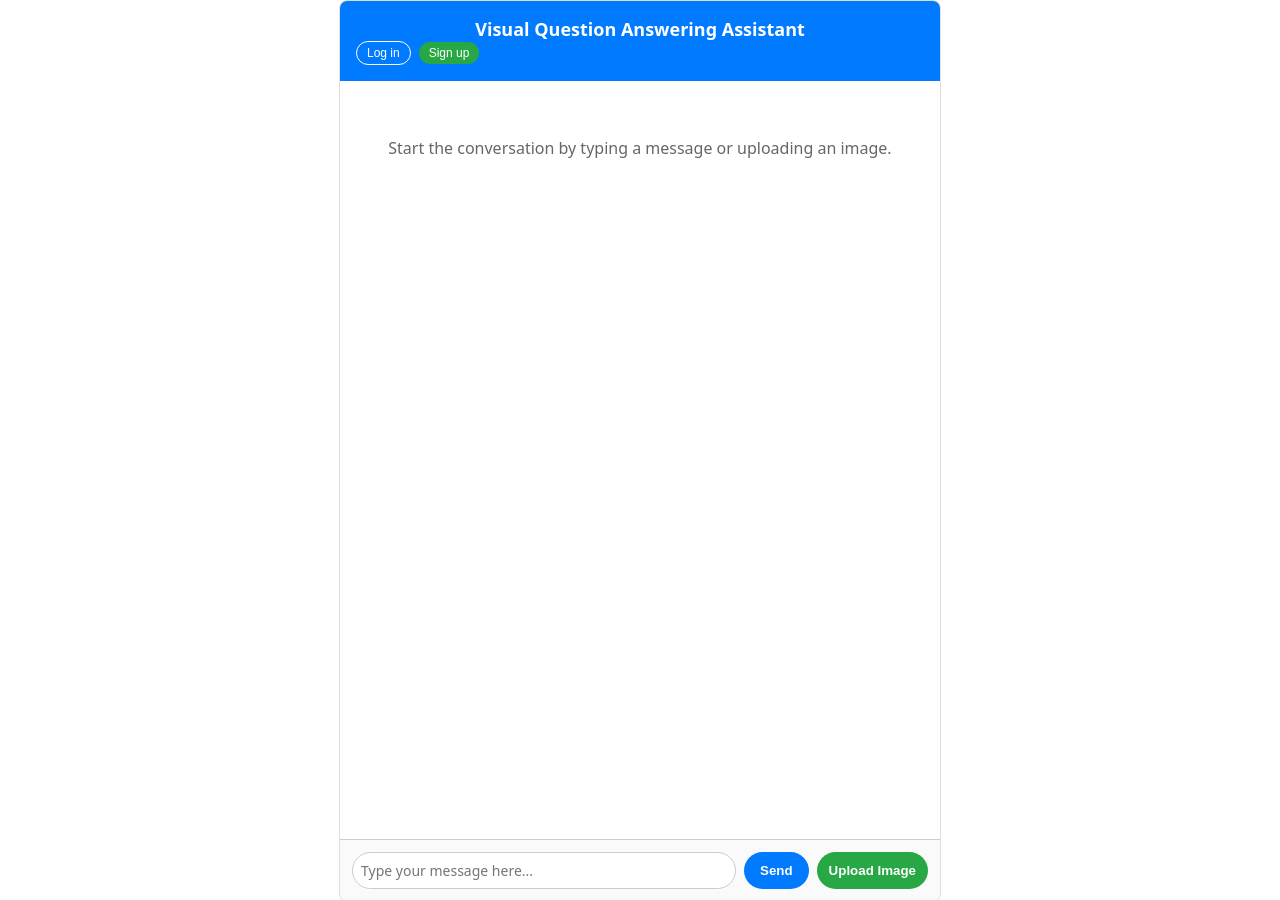
Test case: User Authentication › renders user info and logout button when authenticated
# Start with login → simulates real user flow
Click the button with test id "header-login" at (383, 53), box [356,41,411,65]
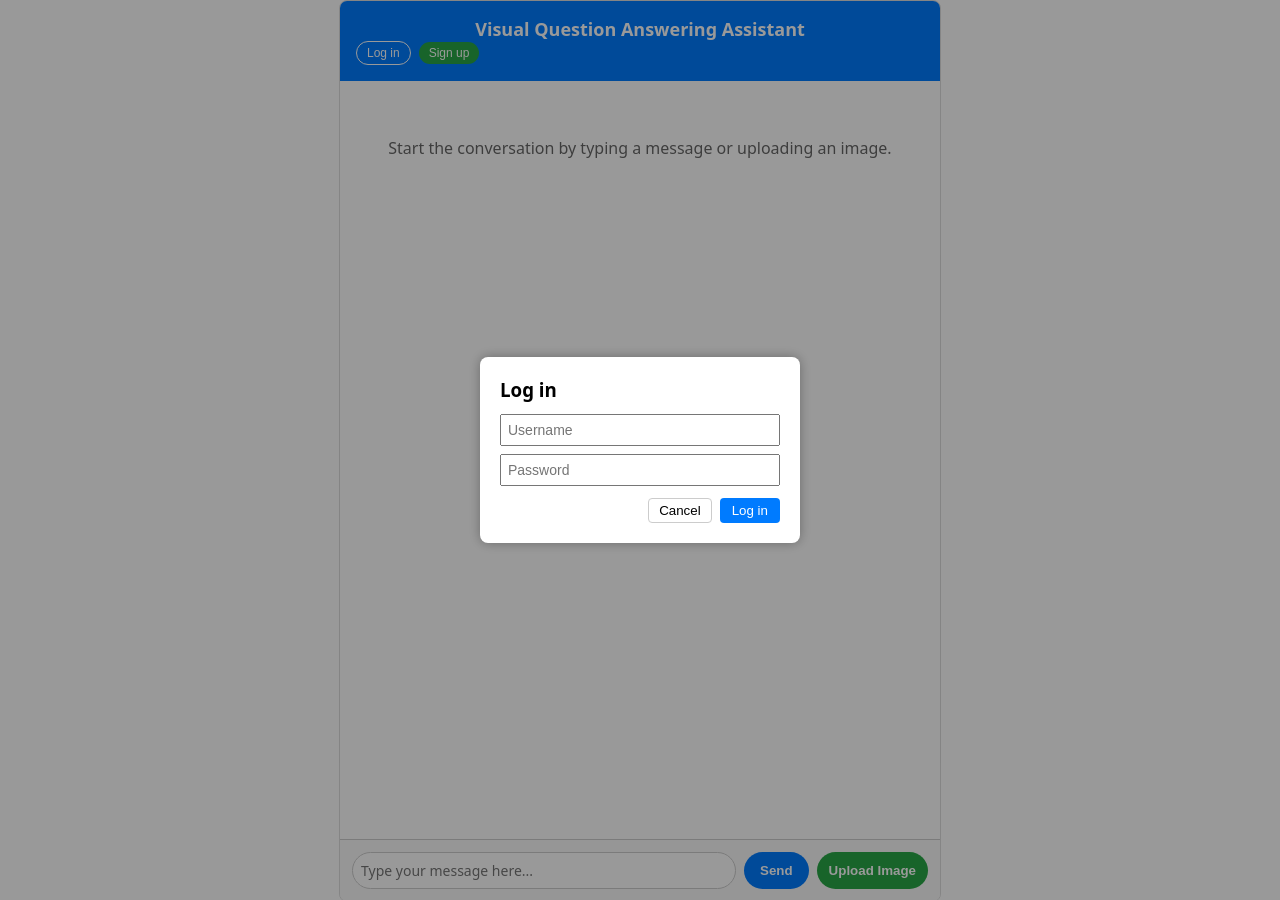
Type "testuser" into the field with placeholder "Username" at (640, 430), box [500,414,780,446]
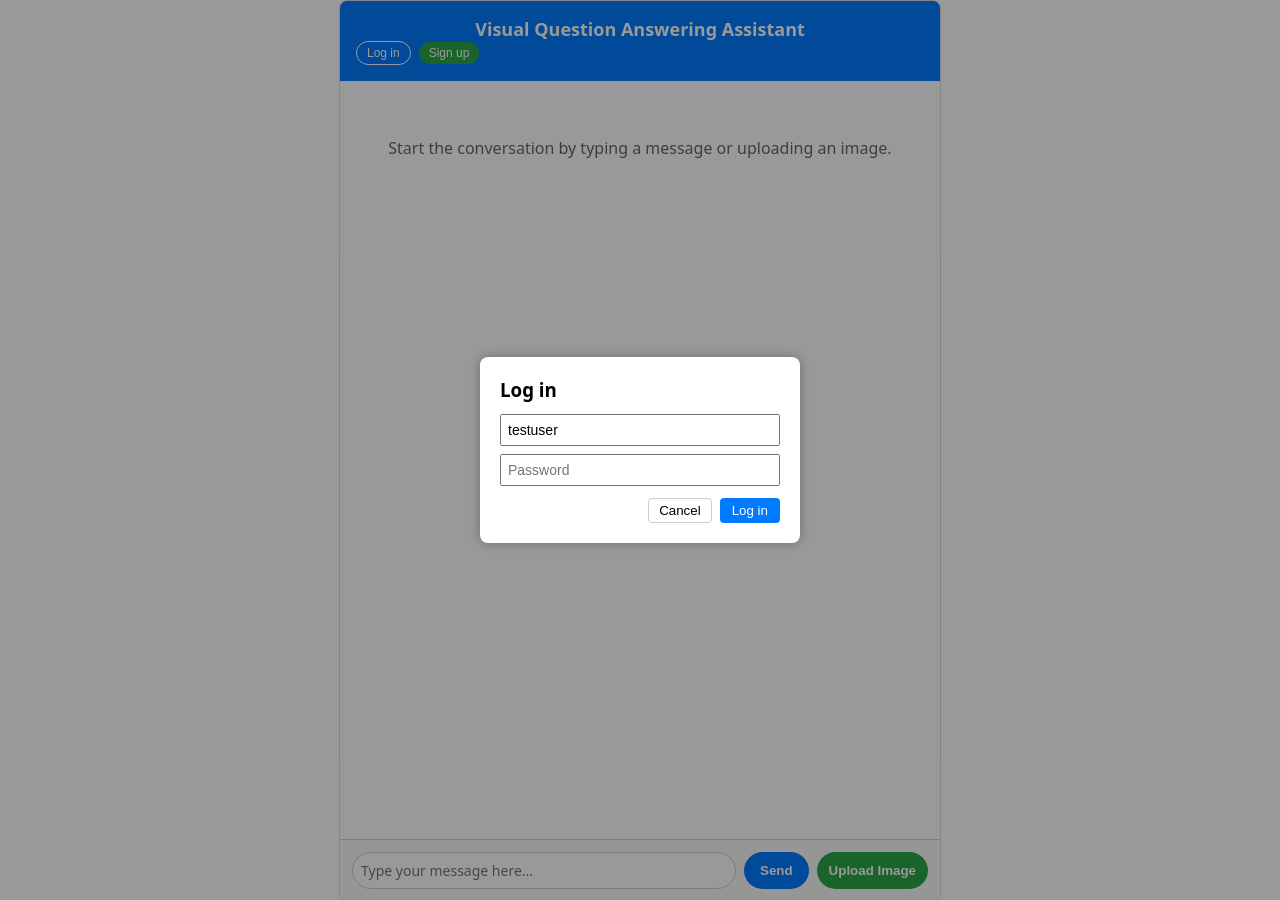
Type "password123" into the password field with placeholder "Password" at (640, 470), box [500,454,780,486]
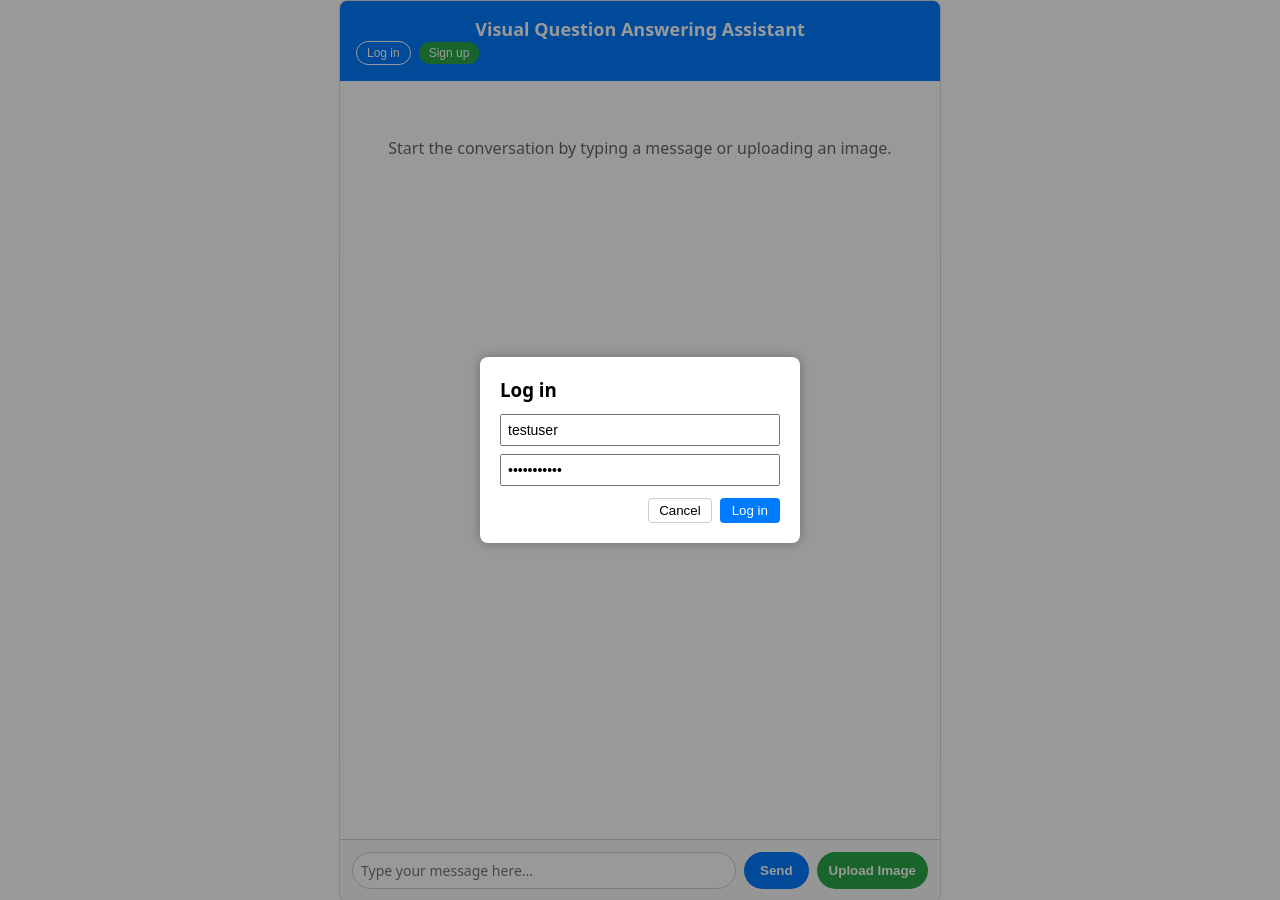
Click the button with test id "modal-submit" at (750, 510), box [720,498,780,523]
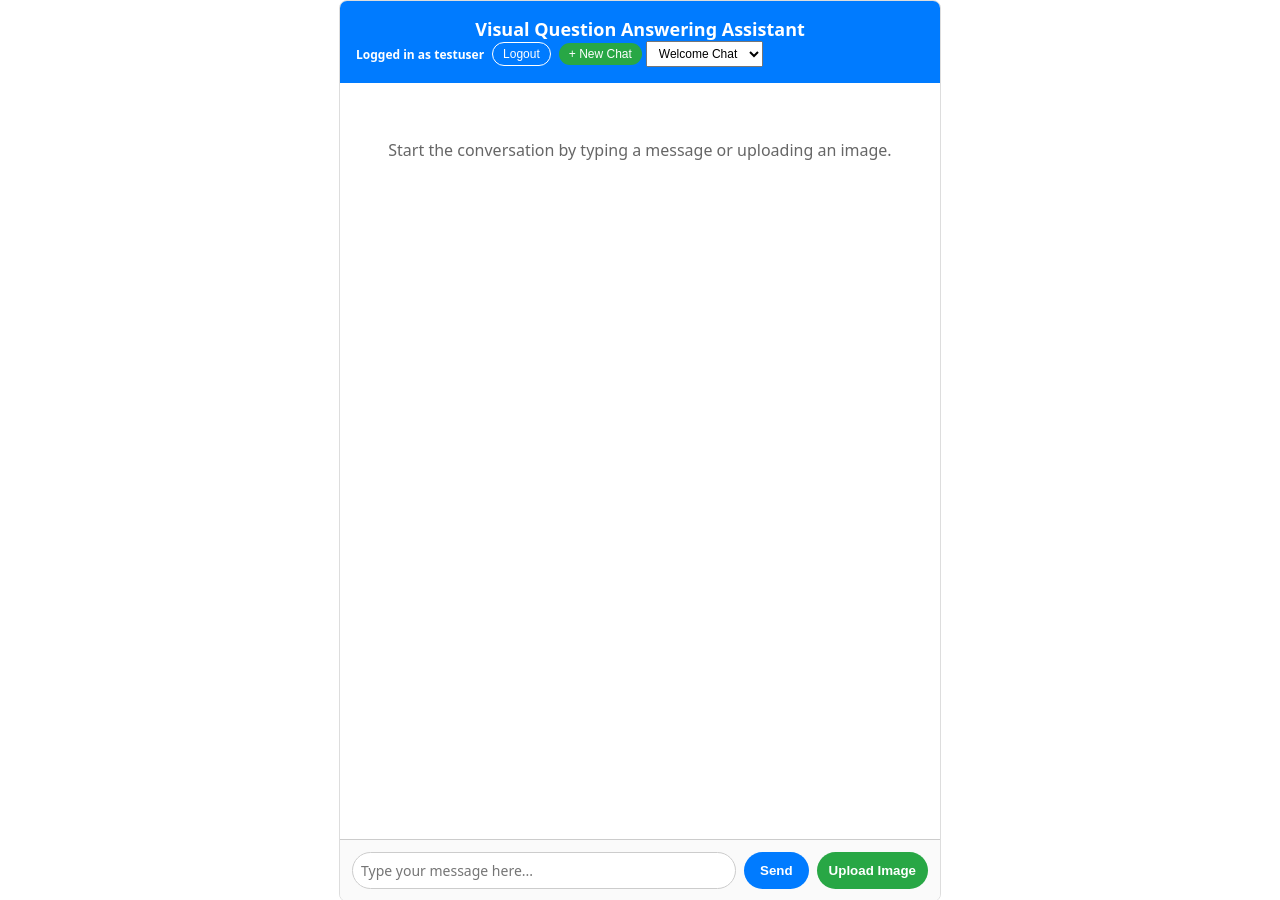
Check: the button with test id "modal-submit" is gone
Check: the text "Logged in as testuser" is shown, box [356,46,484,62]
Check: the button "Logout" is shown
# ✅ Logout button works
Click the button "Logout" at (521, 54), box [492,42,551,66]
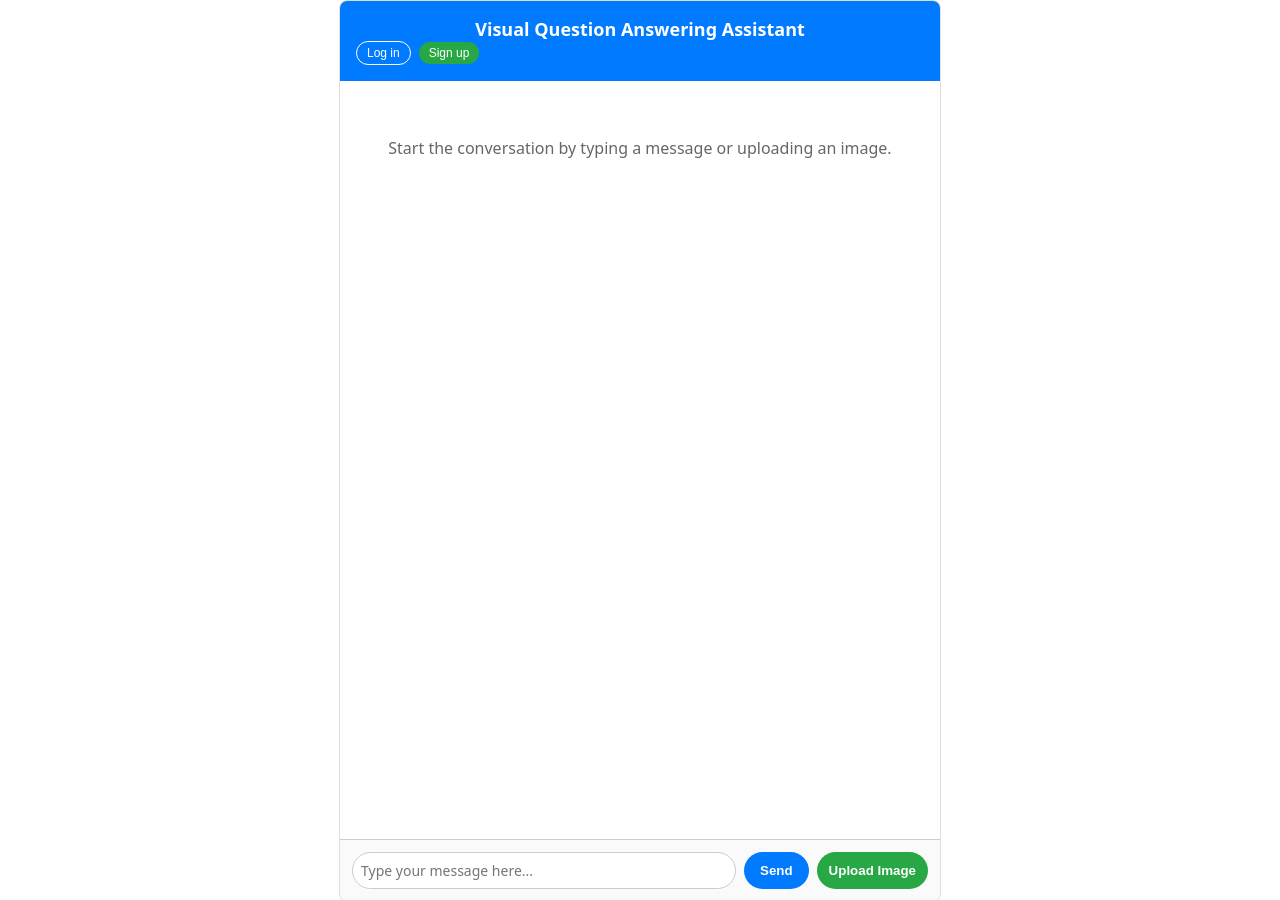
Check: the button "Log in" is shown, box [356,41,411,65]
Check: the text "Logged in as testuser" is gone
